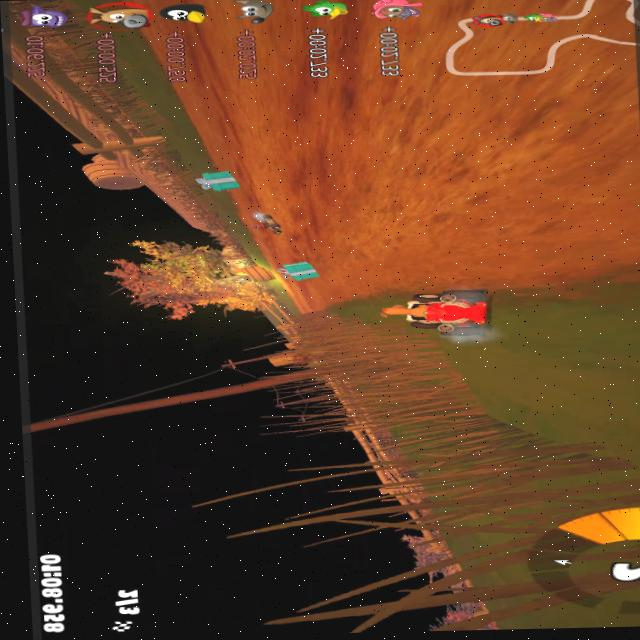bonus: (275, 259, 322, 282), (194, 172, 247, 191)
enemy_kart: (249, 214, 277, 232)
track: (146, 0, 638, 92), (185, 82, 639, 170), (278, 196, 640, 242), (250, 163, 635, 201), (328, 237, 640, 266), (341, 260, 640, 287), (263, 238, 324, 256), (288, 287, 323, 310)
